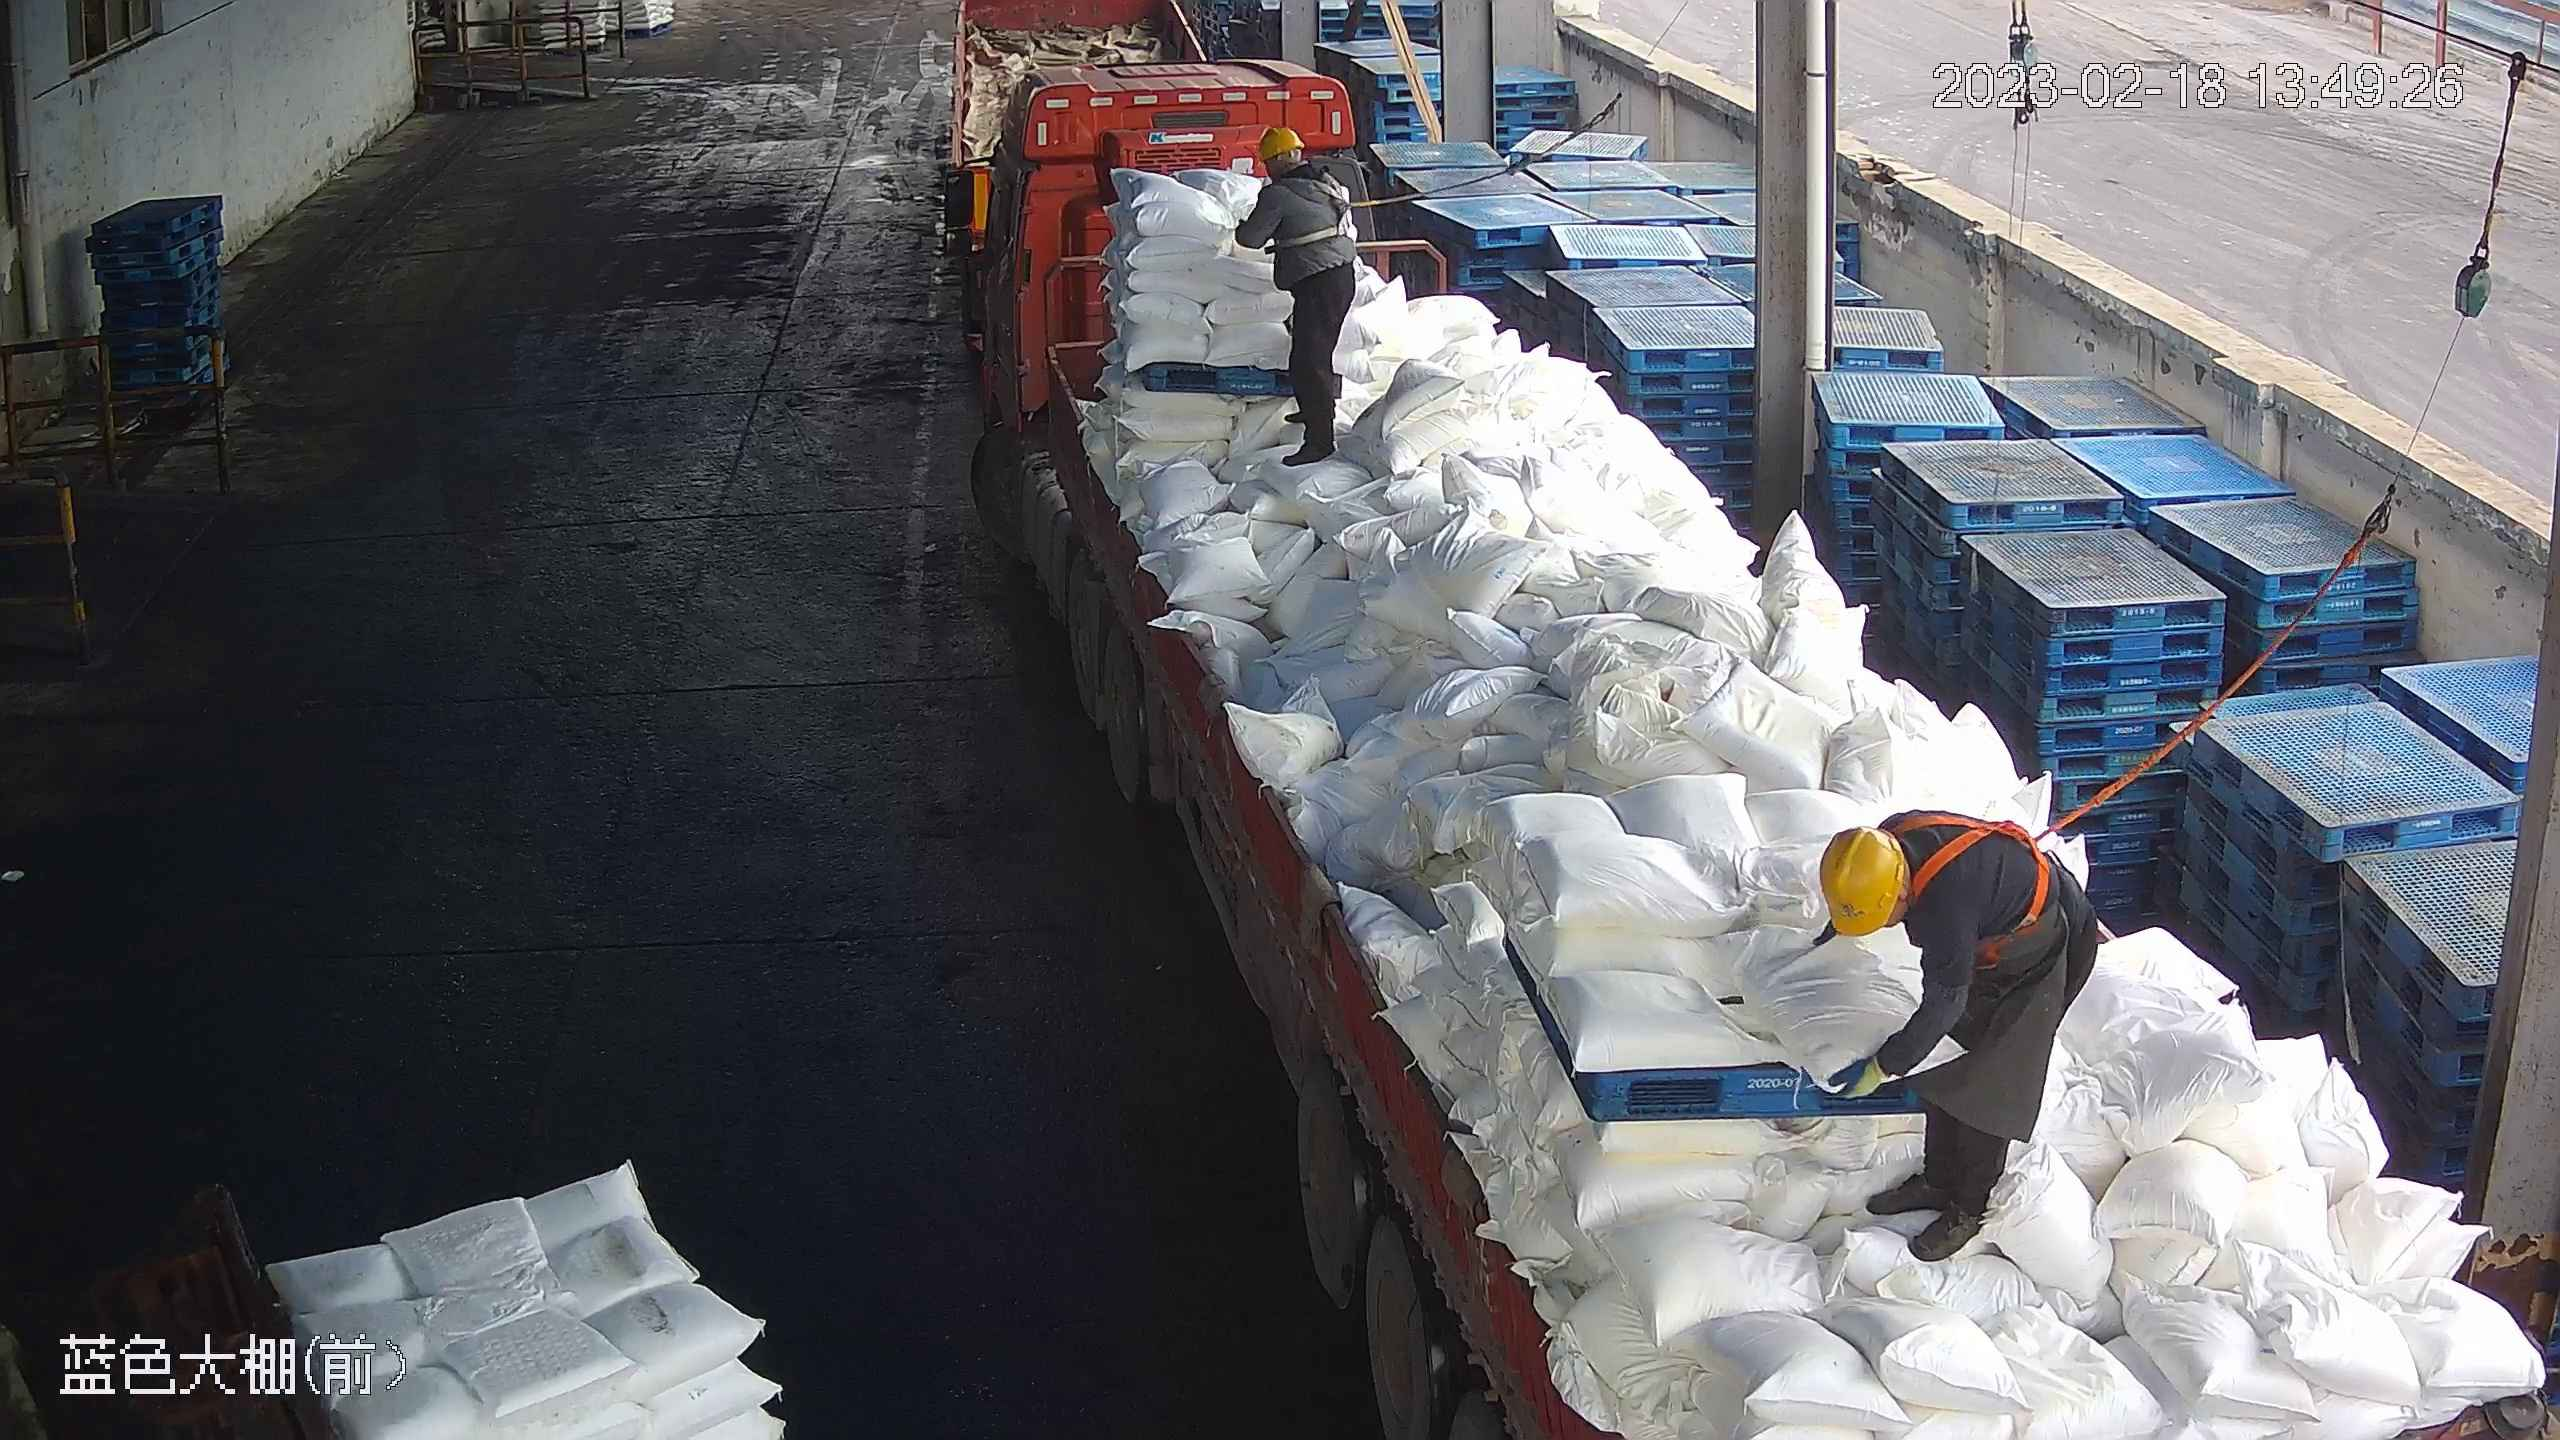belt: (1904, 800, 2077, 946), (1285, 161, 1366, 247)
head: (1815, 819, 2015, 986), (1247, 124, 1345, 214)
helmet: (1817, 822, 1906, 936), (1255, 123, 1303, 160)
people: (1810, 814, 2105, 1259), (1228, 117, 1363, 466)
truck: (942, 45, 2557, 1440)
